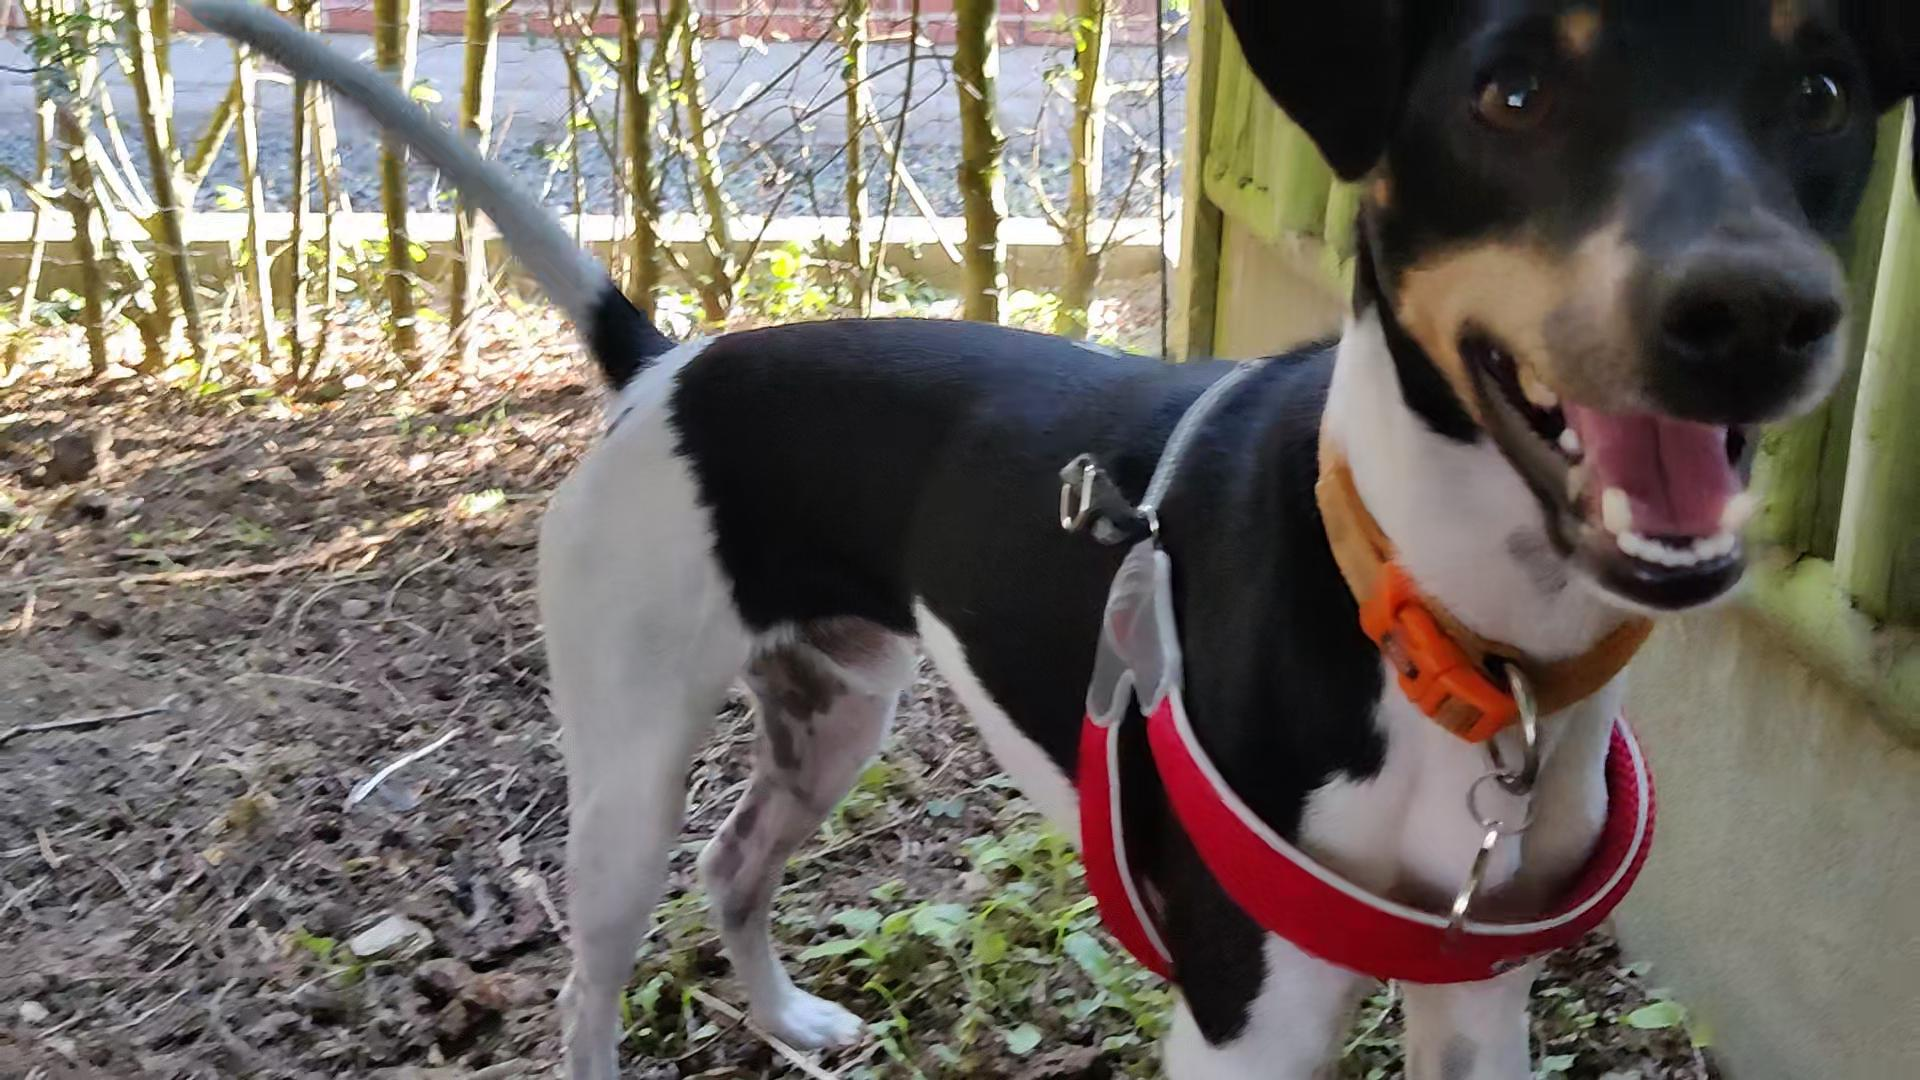Dog: (179, 0, 1919, 1079)
